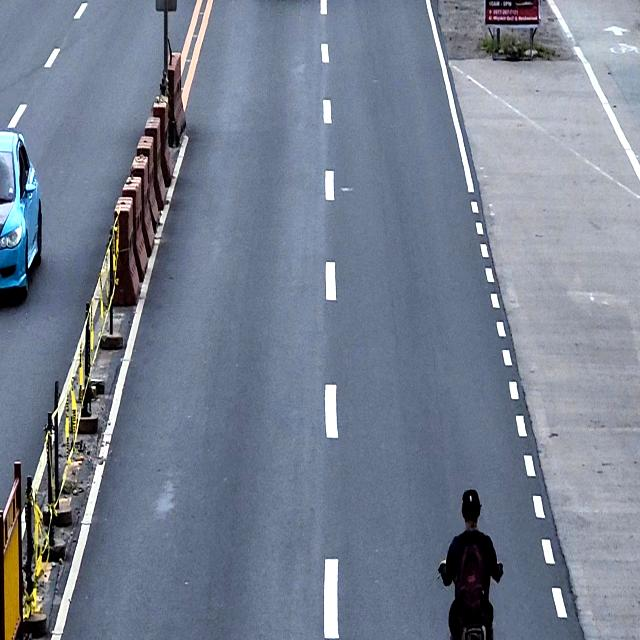Car: (0, 129, 42, 298)
Motorcycle: (437, 548, 504, 639)
